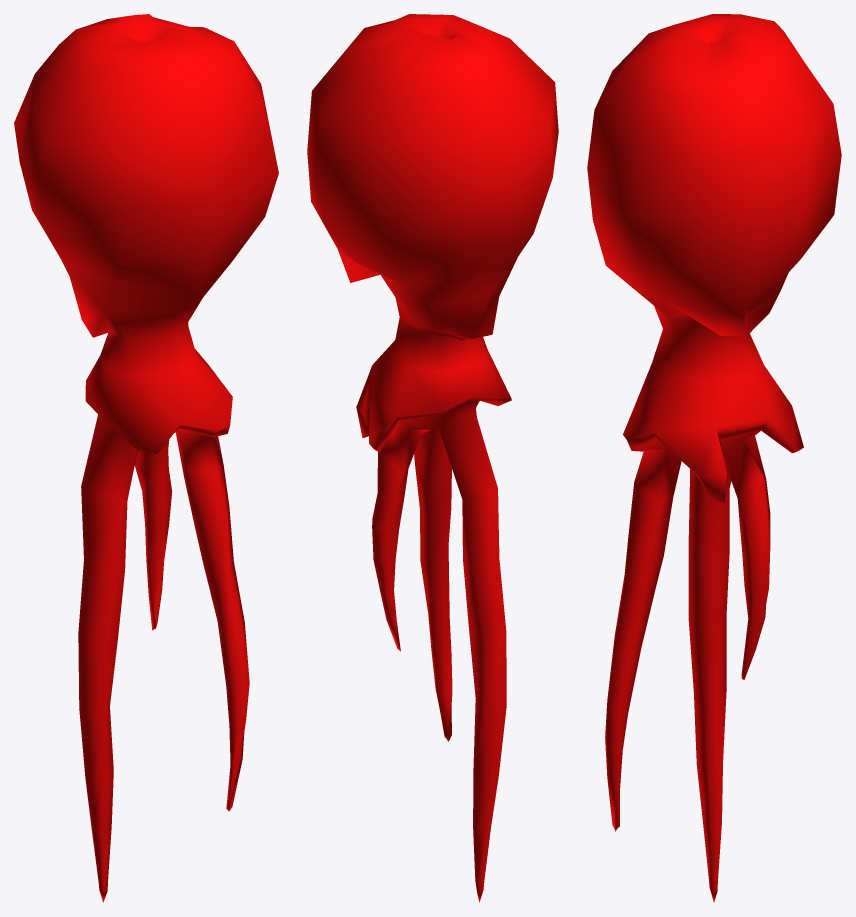
Rendered from LowPOLY.fbx.
3 renders of one model, left to right at view 1: azimuth 30°, elevation 25°; view 2: azimuth 150°, elevation 25°; view 3: azimuth 270°, elevation 25°, orthographic. The views are drawn at different scales.
Parts seen in each view (by area): view 1: LOWLOD; view 2: LOWLOD; view 3: LOWLOD.
Part boxes in pixels (bbox=[...]): LOWLOD: bbox=[14, 14, 278, 902]; LOWLOD: bbox=[307, 14, 558, 902]; LOWLOD: bbox=[587, 14, 841, 902].
Size of the model in its own units: 96.16 by 350 by 89.75.
